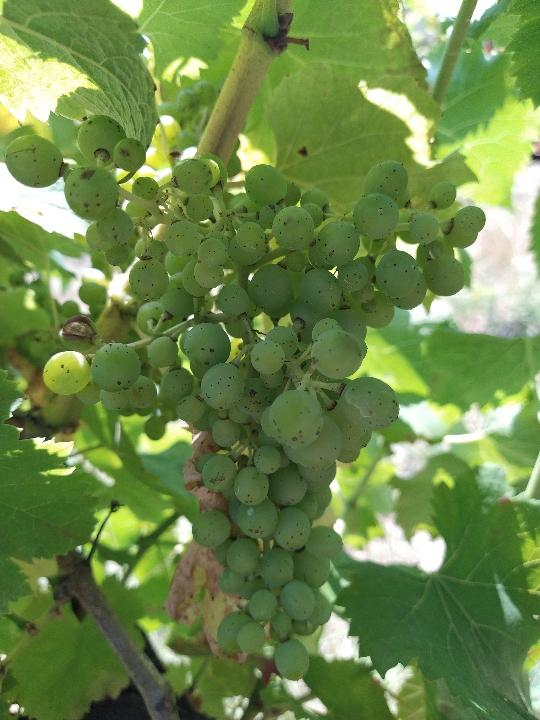grape: (2, 115, 489, 686)
